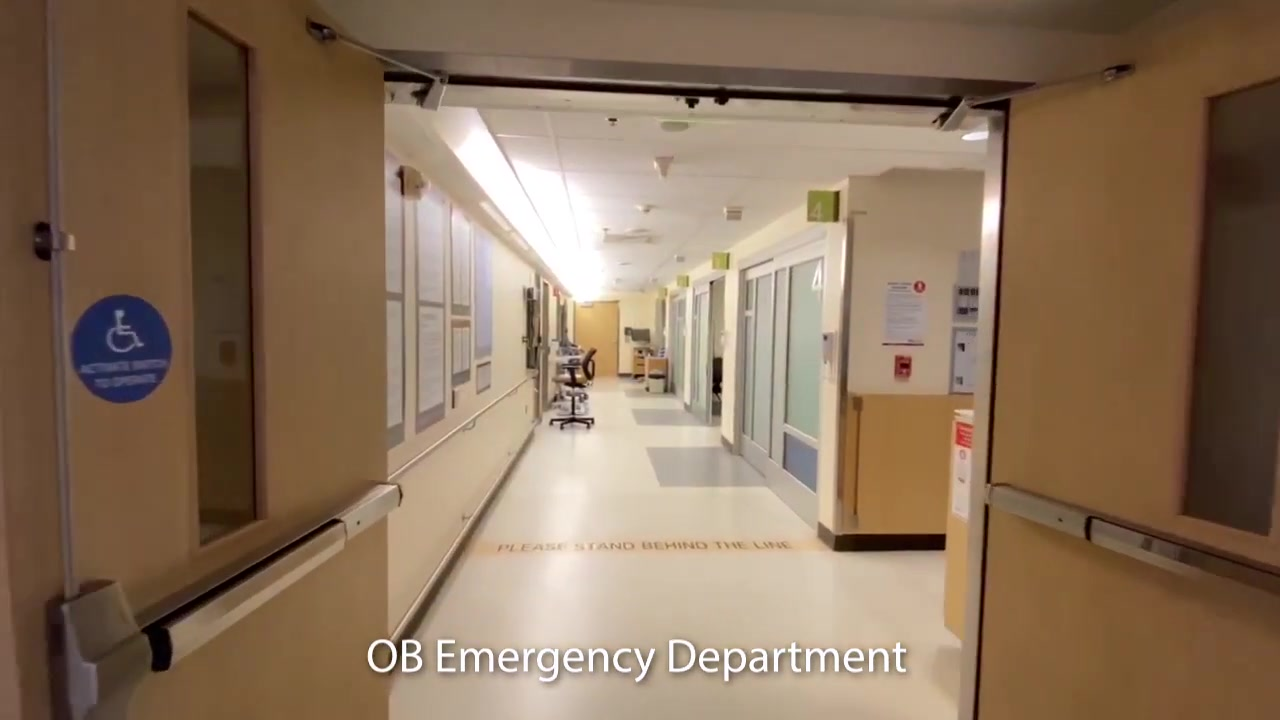chair: (549, 348, 598, 434)
dispenser: (821, 329, 841, 378)
hallway_assist_bar: (387, 372, 529, 477)
push_latch: (70, 480, 408, 720), (994, 480, 1280, 601)
waste_bin: (647, 372, 666, 394)
